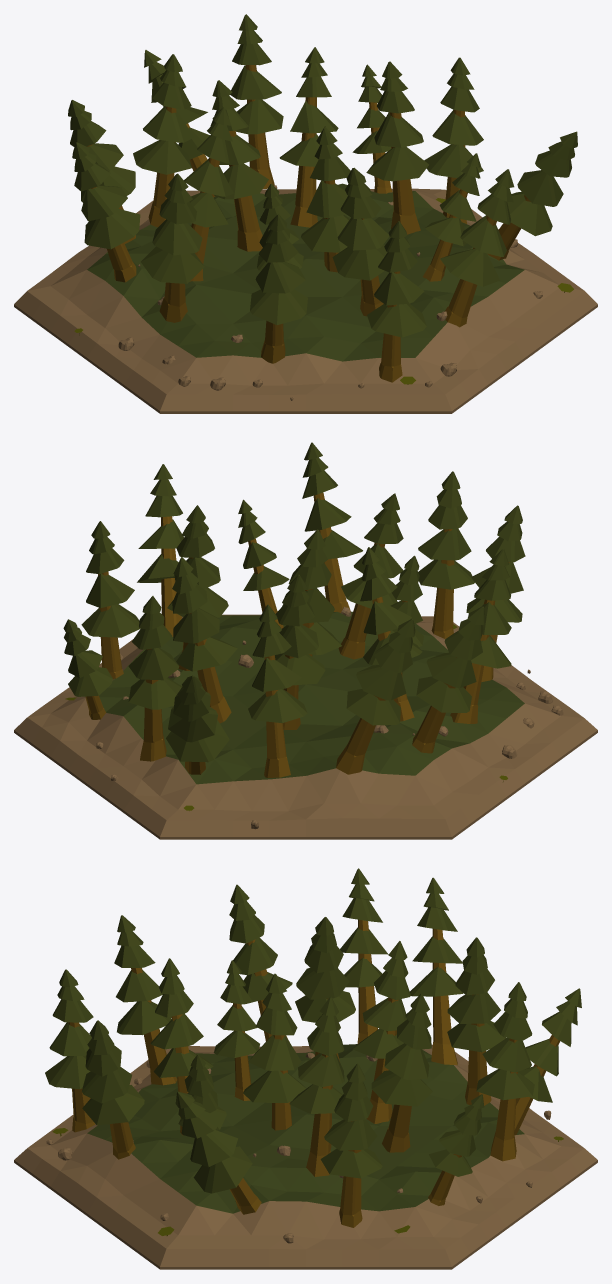
Rendered from temperateRainforest.glb.
The picture shows the model from 3 angles, top to bottom: view 1: azimuth 30°, elevation 25°; view 2: azimuth 150°, elevation 25°; view 3: azimuth 270°, elevation 25°; orthographic projection.
Visible parts, largest first — view 1: big_details, land, small_details; view 2: big_details, land, small_details; view 3: big_details, land, small_details.
Part boxes in pixels (x1,y1,x2,y2): big_details: (68,14,577,382); land: (14,183,597,413); small_details: (74,185,573,400); big_details: (63,442,525,777); land: (14,611,597,839); small_details: (65,606,563,829); big_details: (45,868,581,1227); land: (14,1044,597,1269); small_details: (46,1050,563,1243).
Bounding box in the file's own units: 1.73 × 0.8052 × 2.
